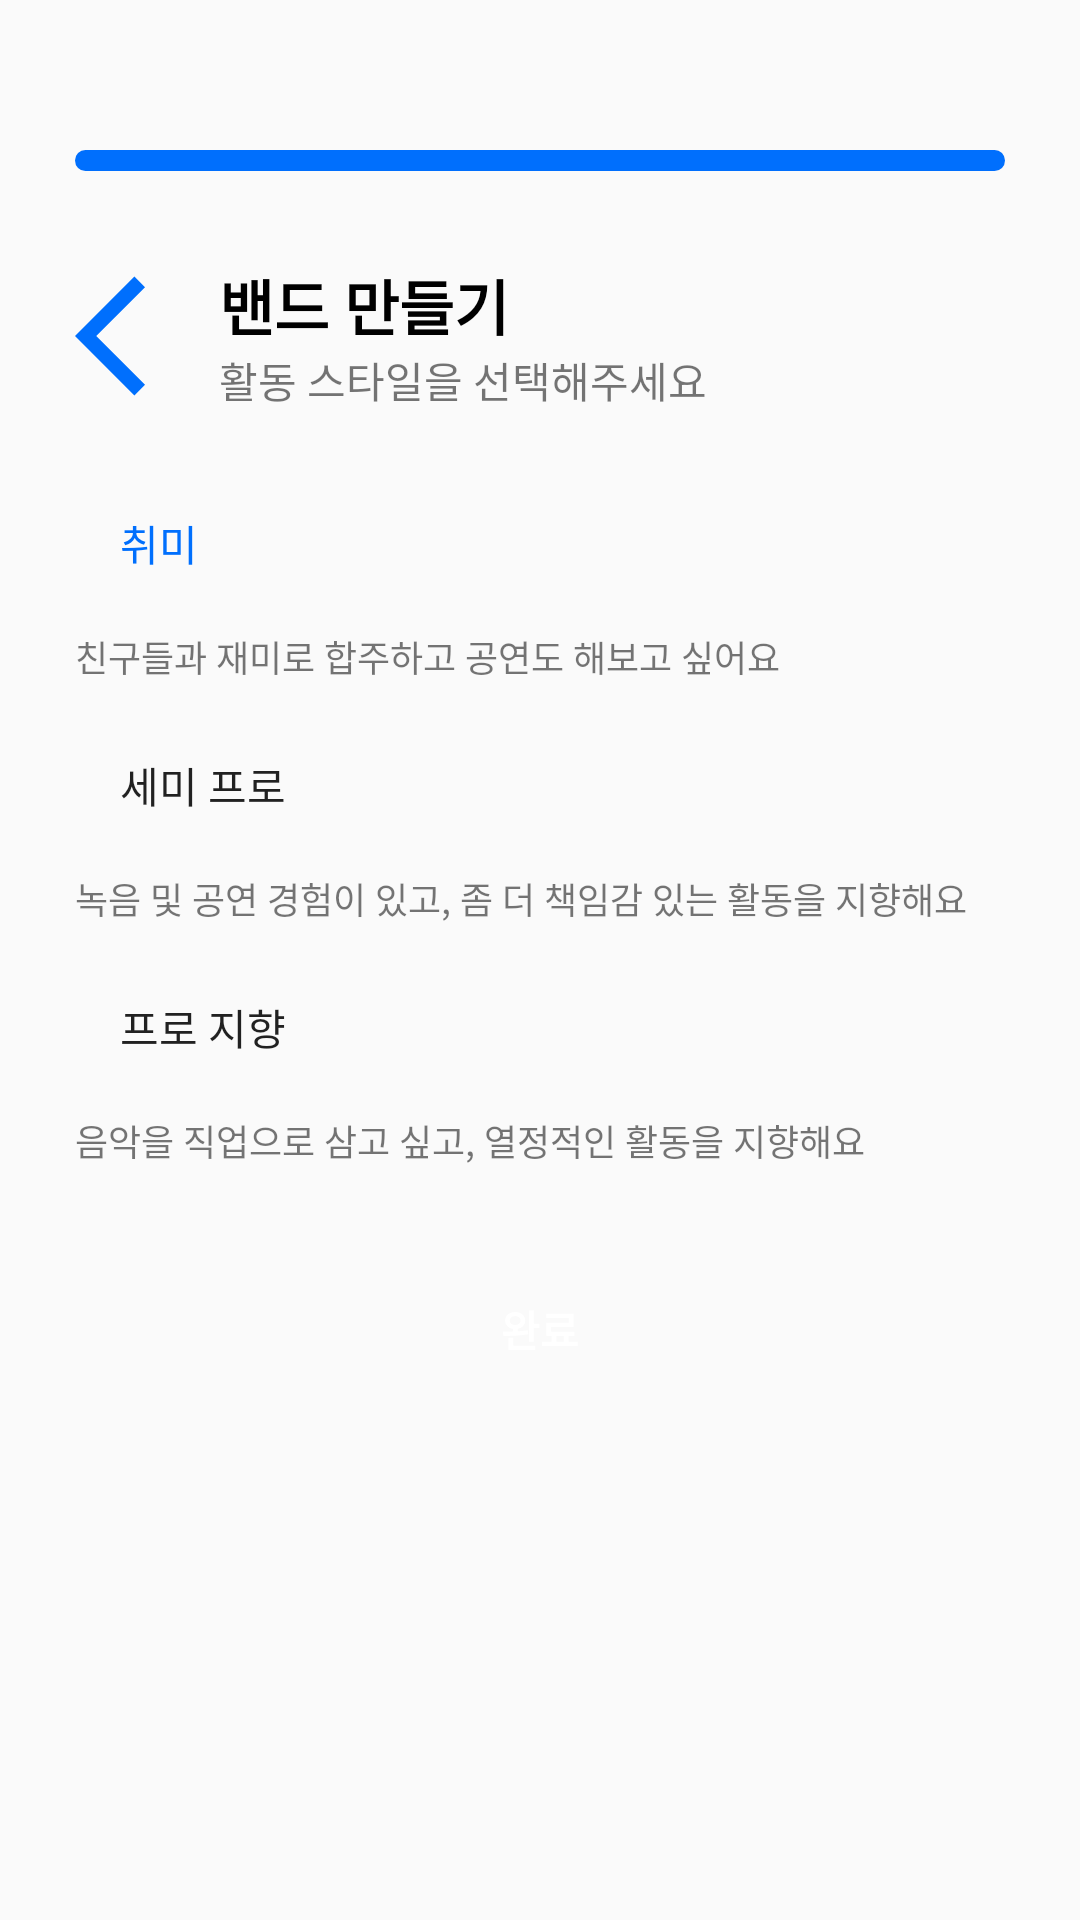

Icon bounding boxes for this 1080*1920 phone screenshot, format Rect(x1, y1, x2, y2):
arrow back: Rect(75, 276, 145, 396)
